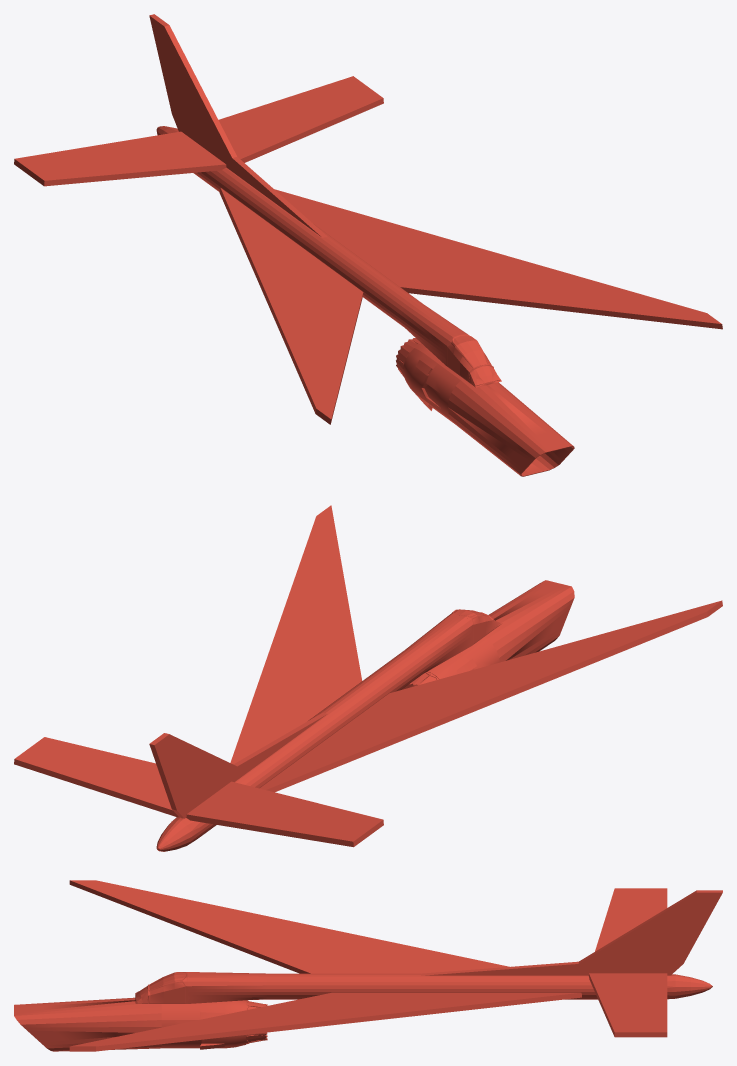
Rendered from progress.glb.
3 renders of one model, top to bottom at view 1: azimuth 30°, elevation 25°; view 2: azimuth 150°, elevation 25°; view 3: azimuth 270°, elevation 25°, orthographic. The views are drawn at different scales.
Visible parts, largest first — view 1: Mesh_42, Mesh_38, Mesh_35, Mesh_36, Mesh_40, Mesh_33, Mesh_28, Body_1, Control Surface_37, Control Surface_41, Mesh_29, Mesh_27 (+6 smaller); view 2: Mesh_42, Mesh_38, Mesh_35, Mesh_36, Control Surface_37, Control Surface_41, Mesh_40, Mesh_28, Control Surface_39, Mesh_33, Mesh_29, Mesh_27 (+7 smaller); view 3: Mesh_38, Mesh_42, Mesh_35, Mesh_33, Mesh_28, Mesh_40, Mesh_29, Mesh_32, Mesh_27, Body_1, Control Surface_43, Mesh_36 (+7 smaller).
Part boxes in pixels (x1,y1,x2,y2): Mesh_42: (274,189,722,329); Mesh_38: (219,188,363,424); Mesh_35: (448,378,574,476); Mesh_36: (26,144,226,186); Mesh_40: (226,85,383,162); Mesh_33: (154,17,236,157); Mesh_28: (325,246,421,326); Body_1: (403,343,463,423); Control Surface_37: (14,131,198,172); Control Surface_41: (218,76,364,135); Mesh_29: (250,192,345,263); Mesh_27: (400,301,467,365); Mesh_42: (230,505,362,764); Mesh_38: (259,600,722,792); Mesh_35: (485,580,574,662); Mesh_36: (205,781,383,837); Control Surface_37: (186,801,365,847); Control Surface_41: (14,750,178,817); Mesh_40: (26,737,164,789); Mesh_28: (330,648,426,720); Control Surface_39: (509,607,713,696); Mesh_33: (154,733,236,796); Mesh_29: (265,703,351,775); Mesh_27: (405,614,471,673); Mesh_38: (69,880,509,973); Mesh_42: (69,992,581,1051); Mesh_35: (14,997,161,1051); Mesh_33: (578,890,714,963); Mesh_28: (266,973,397,999); Mesh_40: (588,973,646,1037); Mesh_29: (398,973,529,992); Mesh_32: (421,961,682,975); Mesh_27: (188,972,266,1003); Body_1: (161,1000,245,1049); Control Surface_43: (85,1023,304,1051); Mesh_36: (595,888,645,951).
Bounding box in the file's own units: 7.51 × 3.25 × 13.5.
